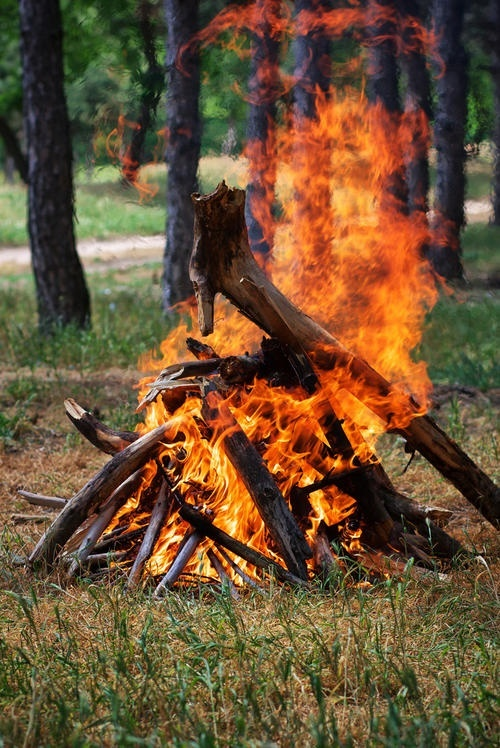fire: (132, 17, 460, 616)
